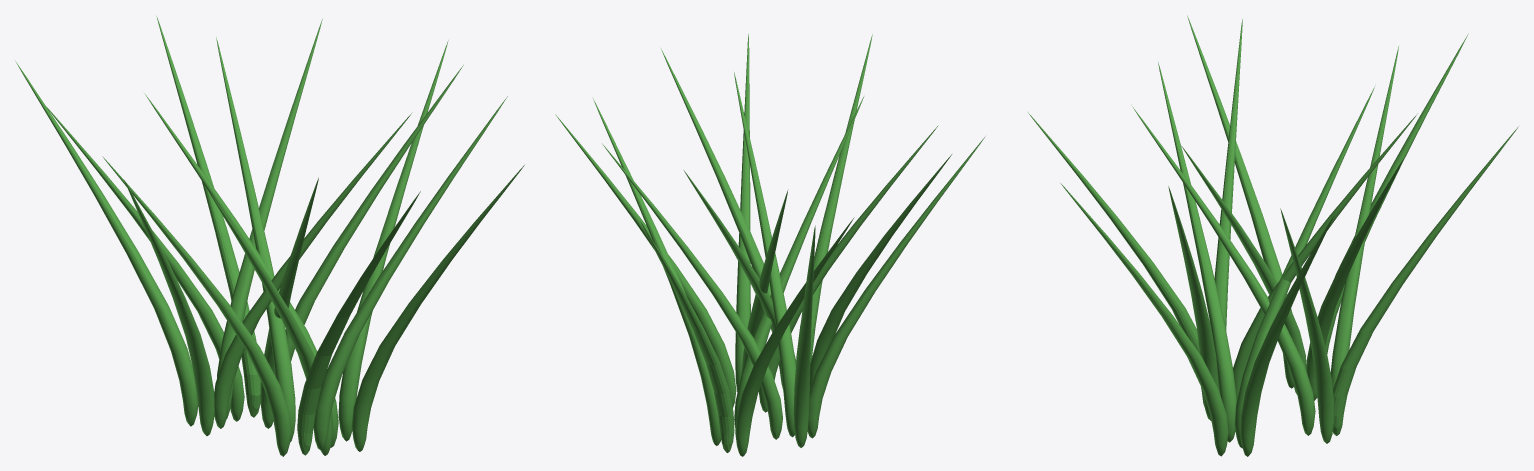
The model's file is Grass 7.fbx.
3 renders of one model, left to right at view 1: azimuth 30°, elevation 25°; view 2: azimuth 150°, elevation 25°; view 3: azimuth 270°, elevation 25°, orthographic. The views are drawn at different scales.
Parts seen in each view (by area): view 1: Cube, Cube_4_12, Cube_4_7, Cube_4_9, Cube_4_8, Cube_4_6, Cube_4_5, Cube_3, Cube_4_10, Cube_4_13, Cube_4_11, Cube_4_4; view 2: Cube, Cube_4_13, Cube_4_10, Cube_4_11, Cube_4_12, Cube_4_5, Cube_4_9, Cube_4_6, Cube_3, Cube_4_7, Cube_4_4, Cube_4_8; view 3: Cube, Cube_4_4, Cube_4_5, Cube_4_6, Cube_4_13, Cube_4_9, Cube_3, Cube_4_8, Cube_4_11, Cube_4_7, Cube_4_10, Cube_4_12.
Part boxes in pixels (x1=…): Cube: x1=45, y1=16, x2=463, y2=447; Cube_4_12: x1=15, y1=61, x2=198, y2=426; Cube_4_7: x1=313, y1=96, x2=507, y2=450; Cube_4_9: x1=102, y1=156, x2=291, y2=456; Cube_4_8: x1=216, y1=38, x2=295, y2=442; Cube_4_6: x1=338, y1=40, x2=448, y2=441; Cube_4_5: x1=351, y1=165, x2=524, y2=451; Cube_3: x1=297, y1=191, x2=420, y2=455; Cube_4_10: x1=214, y1=112, x2=412, y2=428; Cube_4_13: x1=124, y1=180, x2=214, y2=435; Cube_4_11: x1=217, y1=19, x2=322, y2=418; Cube_4_4: x1=208, y1=191, x2=333, y2=455; Cube: x1=592, y1=96, x2=864, y2=456; Cube_4_13: x1=807, y1=136, x2=985, y2=438; Cube_4_10: x1=734, y1=72, x2=796, y2=437; Cube_4_11: x1=602, y1=143, x2=782, y2=439; Cube_4_12: x1=793, y1=225, x2=815, y2=447; Cube_4_5: x1=735, y1=34, x2=750, y2=392; Cube_4_9: x1=809, y1=154, x2=951, y2=390; Cube_4_6: x1=555, y1=114, x2=736, y2=407; Cube_3: x1=796, y1=34, x2=872, y2=362; Cube_4_7: x1=661, y1=49, x2=783, y2=389; Cube_4_4: x1=759, y1=125, x2=938, y2=412; Cube_4_8: x1=684, y1=170, x2=796, y2=364; Cube: x1=1132, y1=46, x2=1518, y2=448; Cube_4_4: x1=1158, y1=62, x2=1236, y2=442; Cube_4_5: x1=1060, y1=183, x2=1228, y2=456; Cube_4_6: x1=1240, y1=214, x2=1334, y2=456; Cube_4_13: x1=1187, y1=15, x2=1293, y2=388; Cube_4_9: x1=1214, y1=19, x2=1242, y2=390; Cube_3: x1=1028, y1=112, x2=1204, y2=407; Cube_4_8: x1=1233, y1=113, x2=1417, y2=400; Cube_4_11: x1=1306, y1=159, x2=1403, y2=400; Cube_4_7: x1=1168, y1=186, x2=1218, y2=420; Cube_4_10: x1=1181, y1=146, x2=1306, y2=394; Cube_4_12: x1=1325, y1=33, x2=1468, y2=353.
Bounding box in the file's own units: 68.71 × 59.2 × 79.36.
